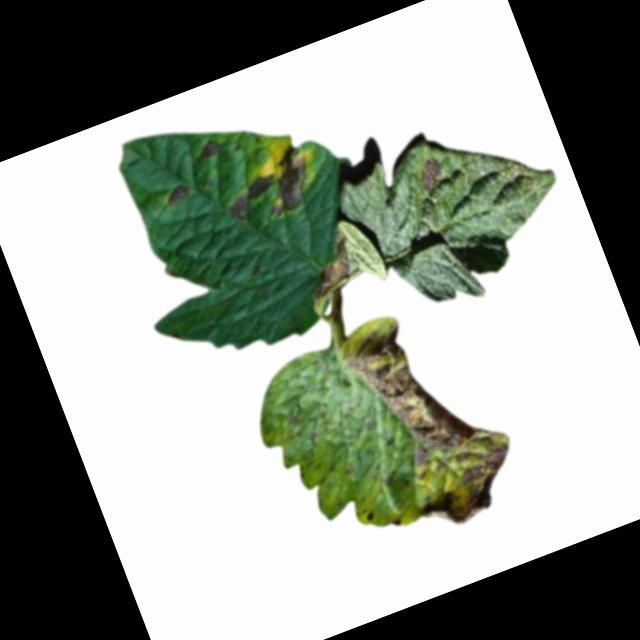Early_blight: (329, 294, 493, 478), (408, 439, 530, 537), (252, 140, 323, 218), (295, 236, 367, 299), (216, 170, 284, 223), (415, 153, 446, 191), (159, 180, 192, 208), (190, 134, 223, 162), (361, 509, 377, 525)
